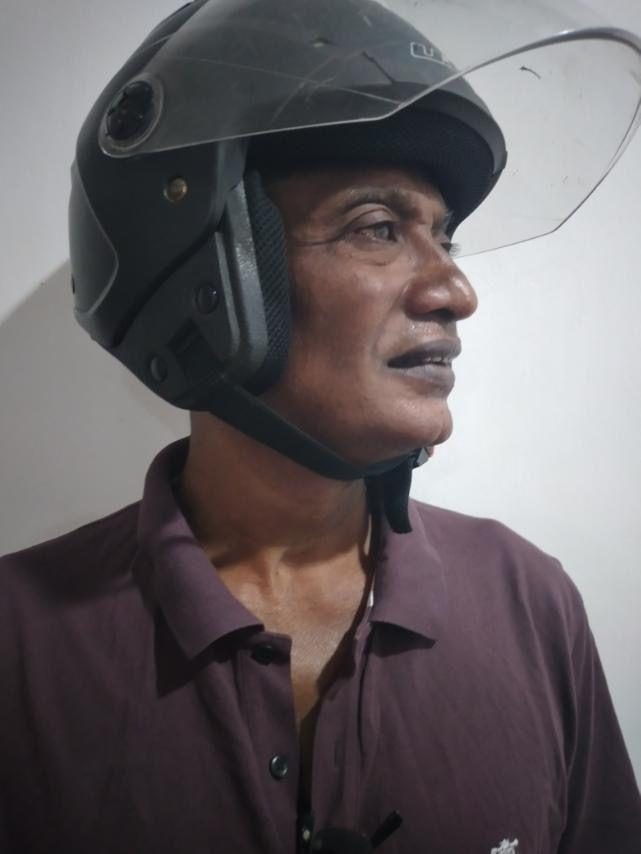helmet: (62, 0, 640, 417)
